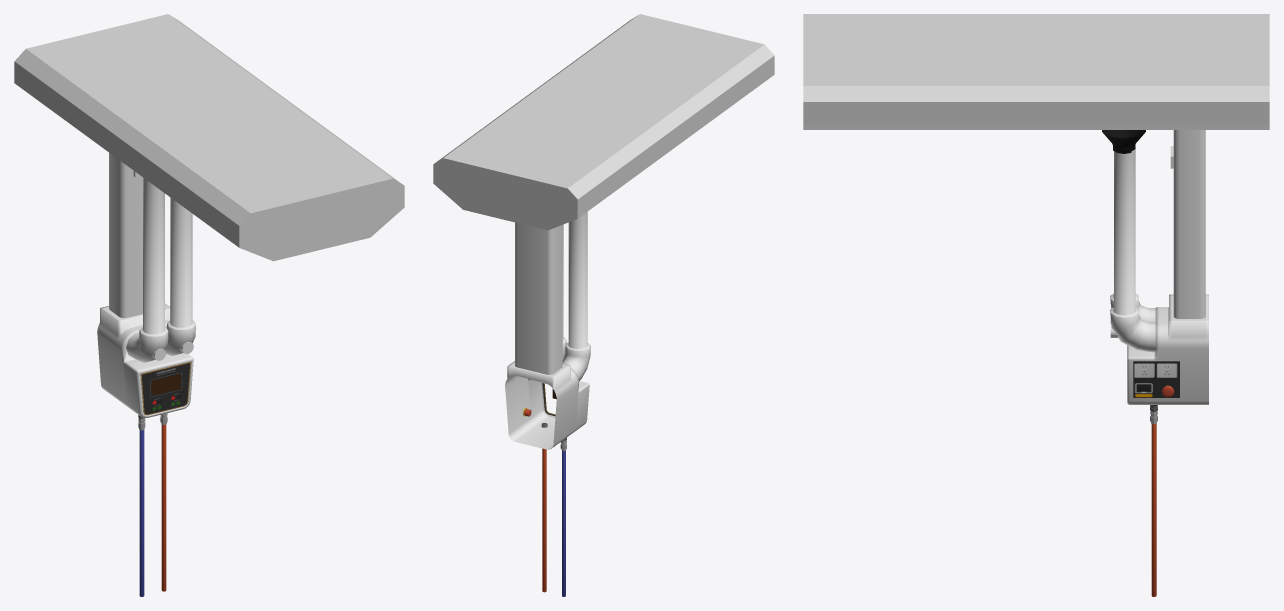
The model's file is smoke_002.glb.
3 views of the same model, side by side, from view 1: azimuth 30°, elevation 25°; view 2: azimuth 150°, elevation 25°; view 3: azimuth 270°, elevation 25° (orthographic). The views are drawn at different scales.
Visible parts, largest first — view 1: top_shell_01, shell_002, shell_001, smoke_tube_001, smoke_tube_002, faceborad, tube_red_001, tube_blue_001; view 2: top_shell_01, shell_002, shell_001, smoke_tube_001, tube_red_001, tube_blue_001; view 3: top_shell_01, shell_002, shell_001, smoke_tube_002, socket, tube_red_001, smoke_tube_004.
Boxes of the visible parts, x1=… form: top_shell_01: x1=14, y1=14, x2=404, y2=261; shell_002: x1=109, y1=153, x2=142, y2=318; shell_001: x1=97, y1=303, x2=193, y2=418; smoke_tube_001: x1=126, y1=177, x2=168, y2=362; smoke_tube_002: x1=165, y1=197, x2=195, y2=355; faceborad: x1=140, y1=361, x2=190, y2=415; tube_red_001: x1=161, y1=424, x2=166, y2=591; tube_blue_001: x1=139, y1=430, x2=144, y2=596; top_shell_01: x1=433, y1=14, x2=774, y2=230; shell_002: x1=515, y1=222, x2=562, y2=374; shell_001: x1=505, y1=361, x2=589, y2=449; smoke_tube_001: x1=562, y1=212, x2=590, y2=381; tube_red_001: x1=542, y1=448, x2=546, y2=592; tube_blue_001: x1=562, y1=451, x2=565, y2=596; top_shell_01: x1=803, y1=14, x2=1269, y2=129; shell_002: x1=1173, y1=130, x2=1205, y2=318; shell_001: x1=1127, y1=294, x2=1208, y2=404; smoke_tube_002: x1=1110, y1=146, x2=1155, y2=352; socket: x1=1133, y1=361, x2=1179, y2=397; tube_red_001: x1=1151, y1=424, x2=1156, y2=596; smoke_tube_004: x1=1102, y1=130, x2=1145, y2=153.
Bounding box in the file's own units: 0.5291 × 1.6 × 1.25.
Materials: 14 (2 with a texture image).
